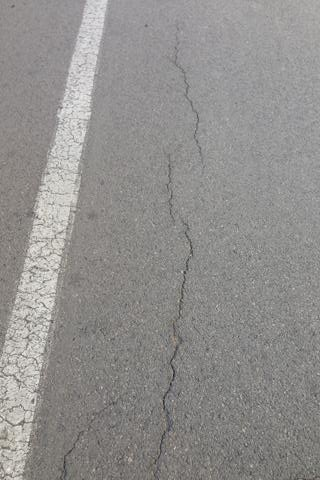A: (151, 18, 208, 480), (60, 397, 114, 480)
